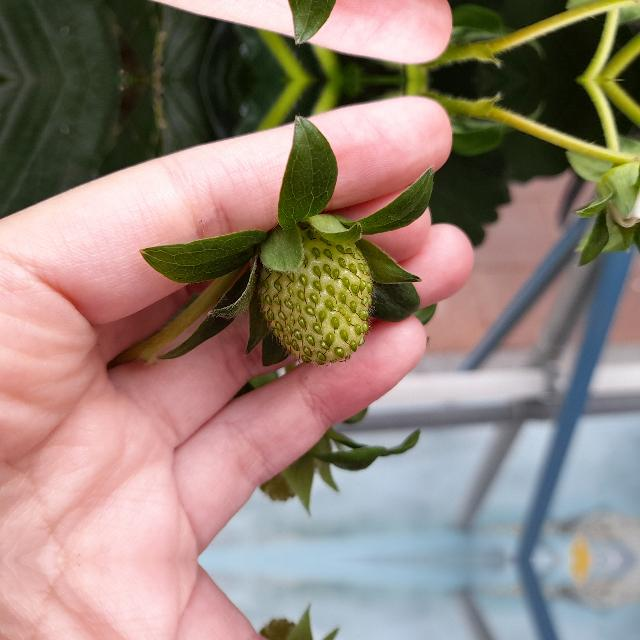Health_25: (255, 225, 379, 367)
